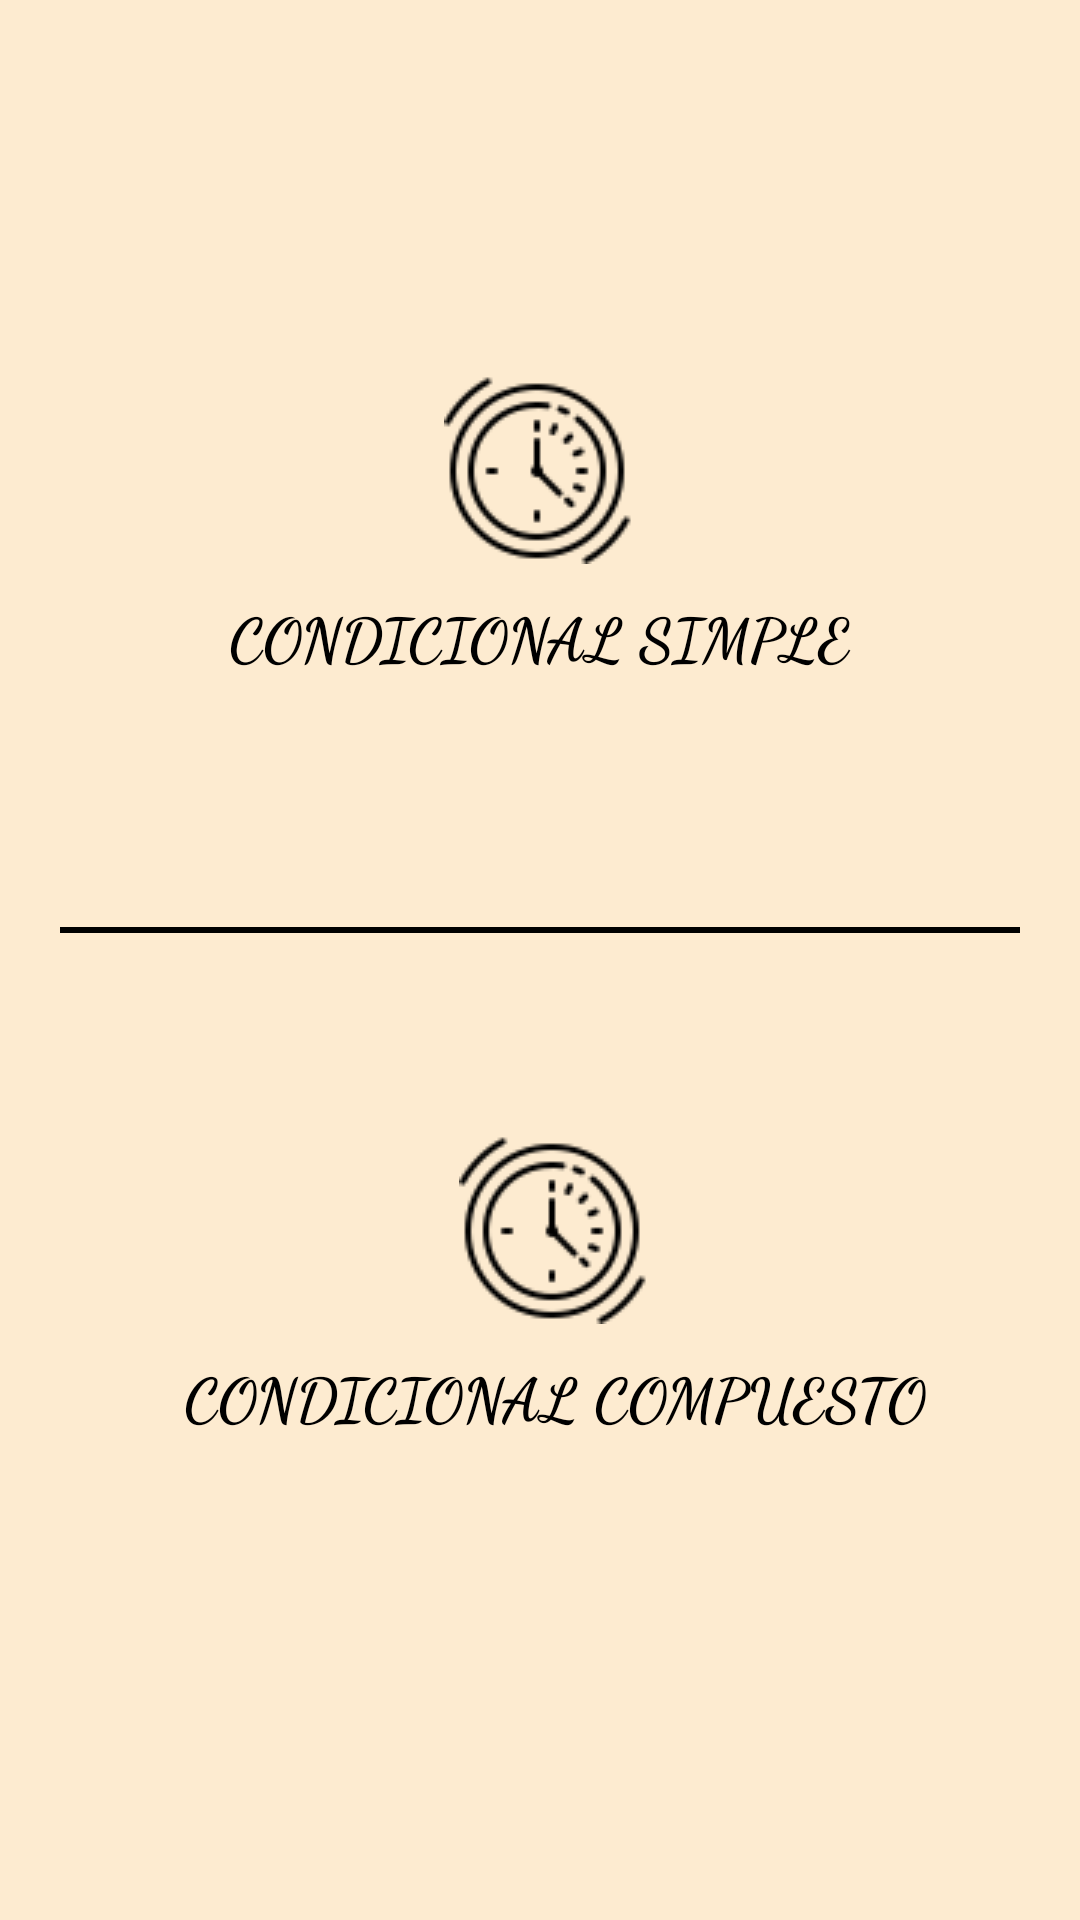

Screen size 1080px×1920px. Icon name, then its center in pixels as point (x, y):
presentindicativo: point (537, 470), point (552, 1230)
